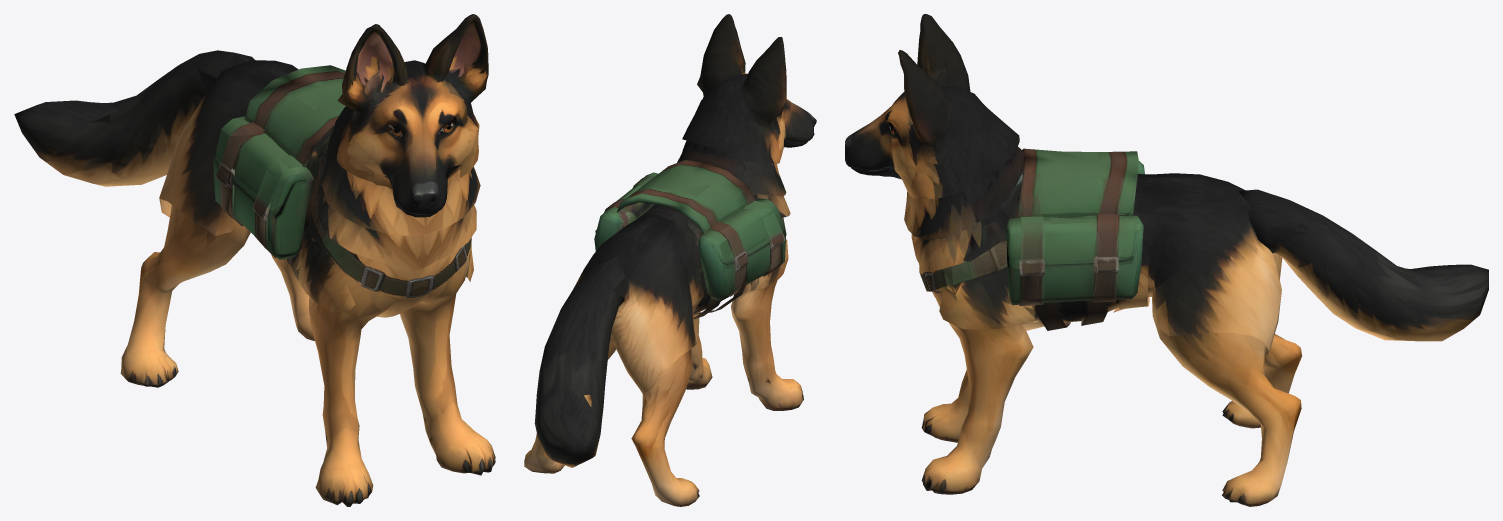
3 renders of one model, left to right at view 1: azimuth 30°, elevation 25°; view 2: azimuth 150°, elevation 25°; view 3: azimuth 270°, elevation 25°, orthographic. The views are drawn at different scales.
Visible parts, largest first — view 1: Mesh_0; view 2: Mesh_0; view 3: Mesh_0.
Part boxes in pixels (x1=…): Mesh_0: x1=14, y1=14, x2=495, y2=506; Mesh_0: x1=524, y1=14, x2=816, y2=506; Mesh_0: x1=845, y1=14, x2=1488, y2=506.
Size of the model in its own units: 0.2992 by 0.6 by 0.8214.
Materials: 1 (1 with a texture image).
